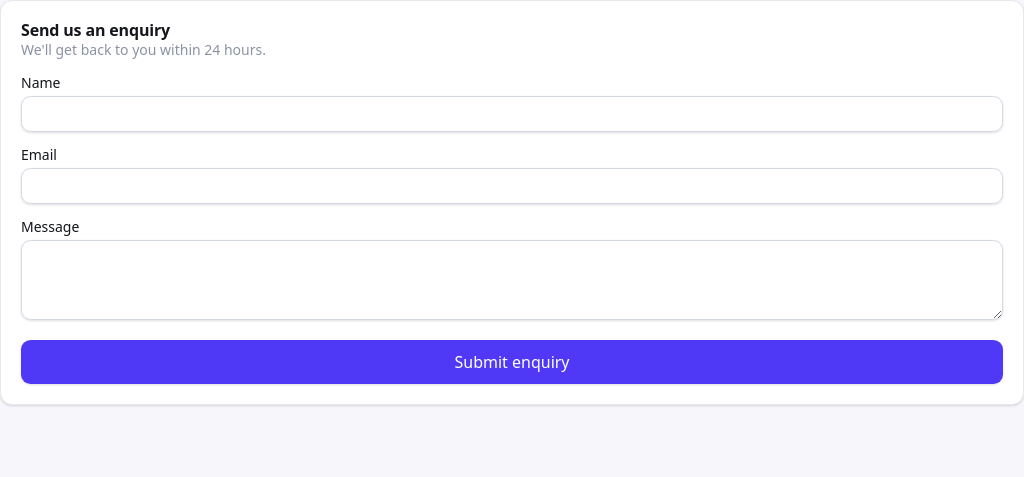
Test: EnquiryForm › shows inline validation errors and stays on the form after a 400 response
Step 1. Type "Jane" into the field labelled "Name" → coordinates (512, 114), box [21,96,1003,132]
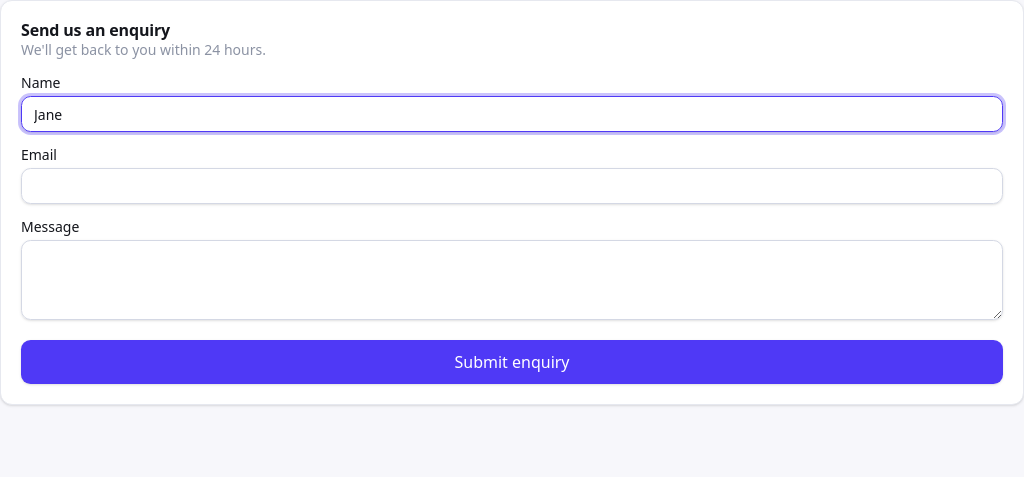
Step 2. Type "jane@example.com" into the field labelled "Email" → coordinates (512, 186), box [21,168,1003,204]
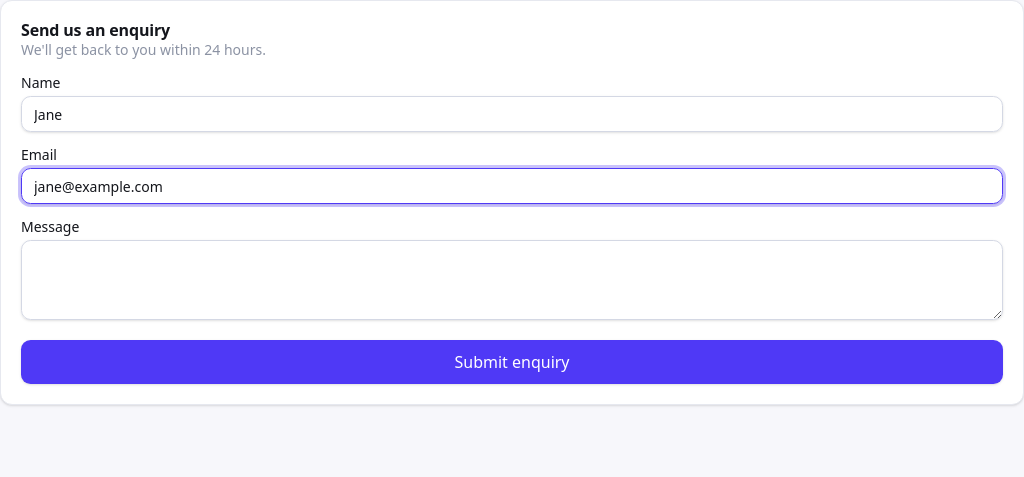
Step 3. Type "Interested in this!" into the text box labelled "Message" → coordinates (512, 280), box [21,240,1003,320]
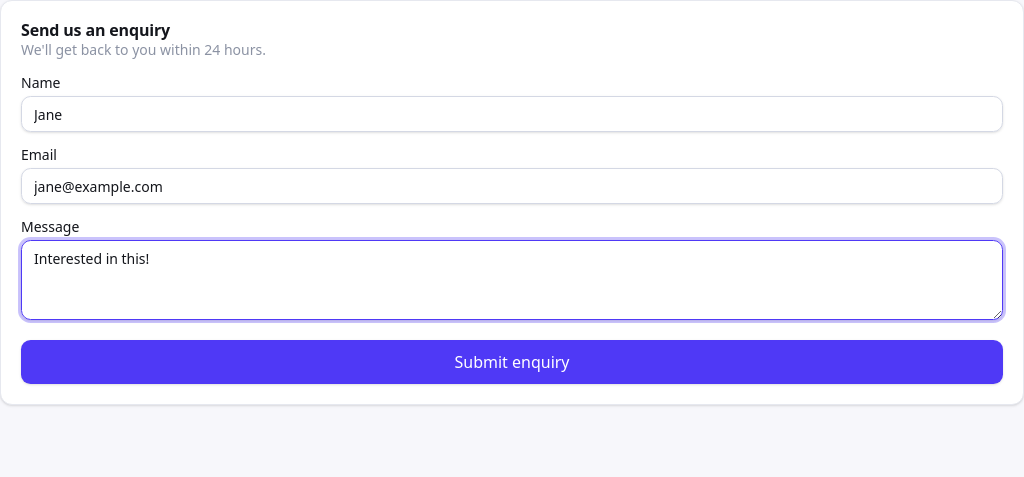
Step 4. Click the button "Submit enquiry" → coordinates (512, 362), box [21,340,1003,384]
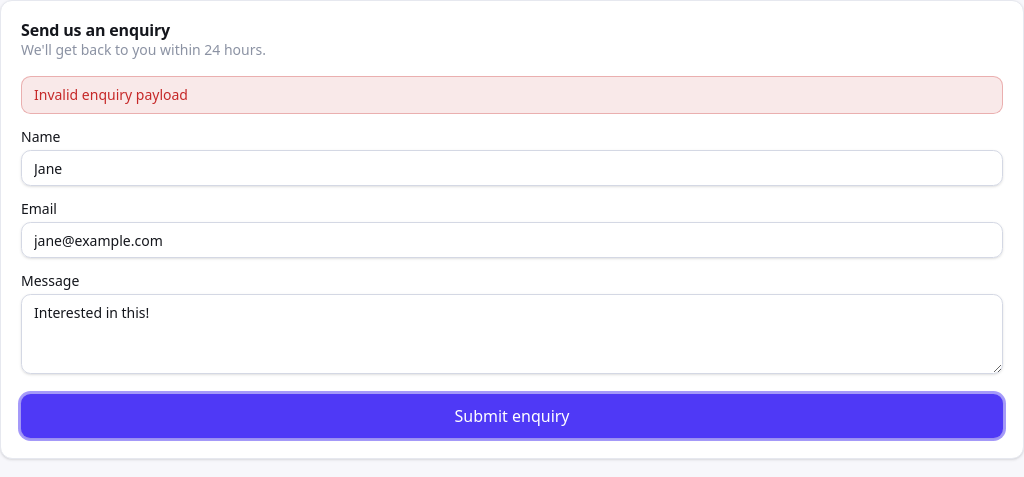
expect the text "Invalid enquiry payload" is shown: met, box [21,76,1003,114]
